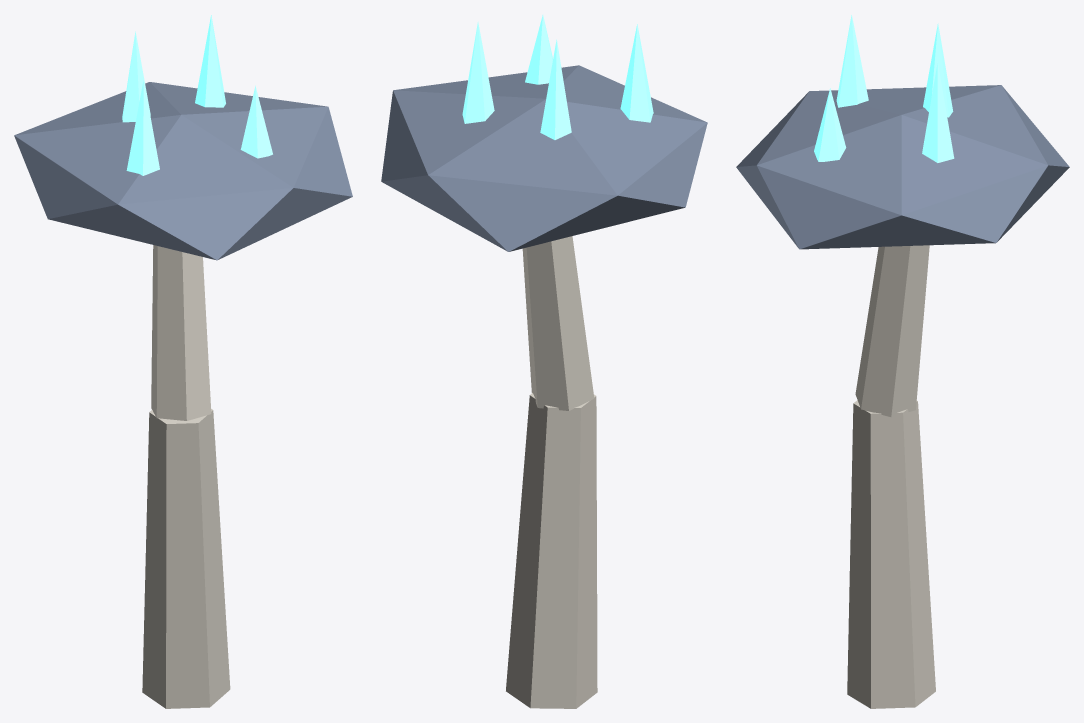
File: arv_fungo_cristal_4_sem_textura.glb
3 views of the same model, side by side, from view 1: azimuth 30°, elevation 25°; view 2: azimuth 150°, elevation 25°; view 3: azimuth 270°, elevation 25° (orthographic). The views are drawn at different scales.
Visible parts, largest first — view 1: arv_fungo_cristal_4; view 2: arv_fungo_cristal_4; view 3: arv_fungo_cristal_4.
Boxes of the visible parts, x1=… form: arv_fungo_cristal_4: x1=14, y1=15, x2=352, y2=708; arv_fungo_cristal_4: x1=381, y1=15, x2=707, y2=708; arv_fungo_cristal_4: x1=736, y1=15, x2=1069, y2=708.
Size of the model in its own units: 0.8096 by 1.8 by 0.8256.
